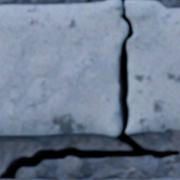brick: (152, 178, 179, 179)
broken_brick: (0, 0, 128, 136), (125, 0, 179, 134)
crack: (0, 0, 179, 179), (166, 119, 169, 130), (163, 7, 168, 12)
